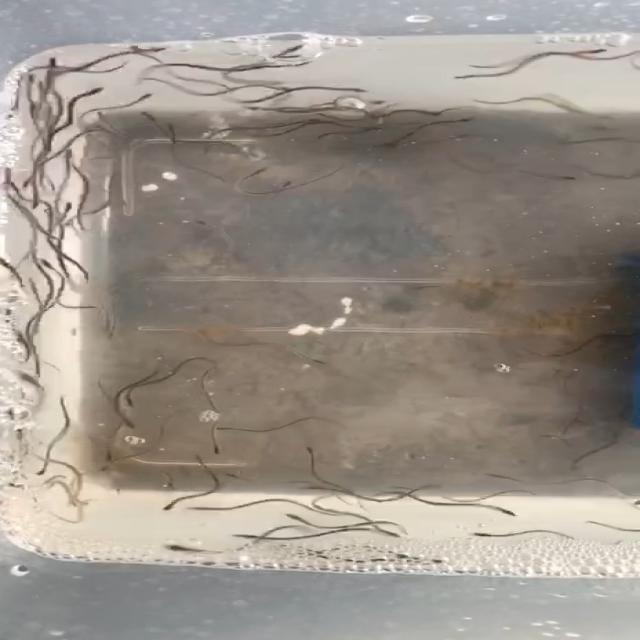inactive_glass_eel: (572, 42, 614, 57), (487, 502, 522, 520), (362, 136, 406, 150), (113, 412, 141, 434), (90, 451, 128, 467), (154, 540, 196, 554), (124, 93, 165, 107), (58, 196, 88, 215), (15, 366, 42, 387), (589, 108, 620, 126), (450, 116, 500, 127), (181, 503, 223, 516), (471, 525, 505, 541), (204, 442, 234, 460), (29, 255, 67, 269), (410, 554, 457, 565), (276, 59, 322, 70), (144, 44, 186, 56), (306, 352, 330, 373), (450, 72, 499, 82), (380, 555, 424, 566), (121, 43, 153, 58), (152, 502, 188, 515), (326, 85, 382, 93), (246, 162, 278, 176), (207, 424, 243, 435), (0, 164, 24, 180), (560, 172, 592, 184), (287, 43, 329, 52), (118, 394, 144, 408), (360, 98, 400, 107), (46, 52, 66, 70), (161, 122, 183, 138), (300, 442, 322, 458), (33, 463, 55, 479), (130, 109, 158, 121), (270, 52, 323, 58), (20, 71, 44, 84), (88, 85, 113, 97), (26, 195, 41, 213), (97, 462, 116, 476)
